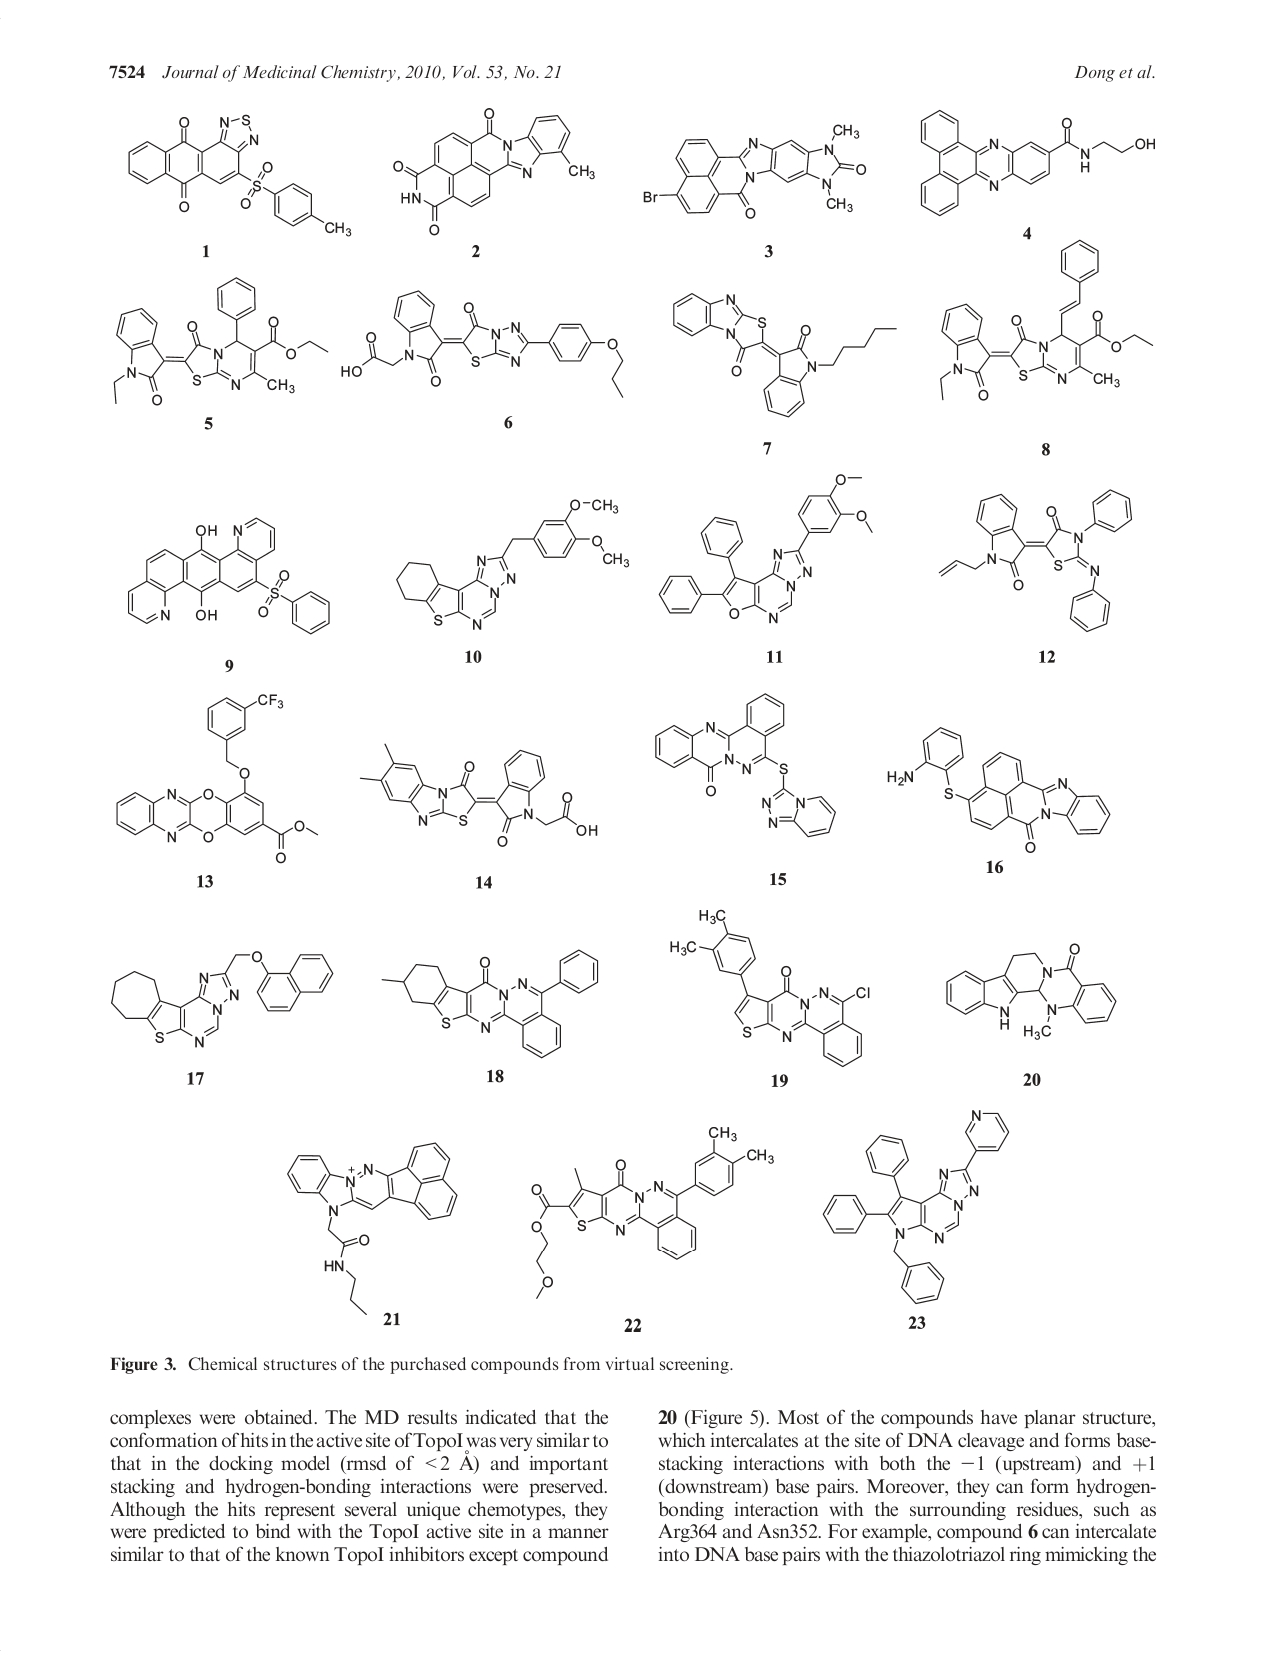exist_molecular: (528, 1122, 777, 1299), (116, 684, 320, 867), (822, 1109, 1012, 1305), (942, 237, 1157, 406), (394, 493, 632, 633), (336, 289, 630, 402), (668, 908, 871, 1069), (660, 473, 872, 625), (669, 286, 904, 418), (287, 1138, 459, 1317), (128, 106, 356, 239), (113, 274, 328, 414), (938, 481, 1136, 633), (884, 725, 1112, 854), (656, 692, 839, 839), (914, 109, 1158, 218), (390, 109, 597, 237), (360, 739, 600, 847), (122, 516, 330, 637), (380, 948, 602, 1059), (640, 118, 867, 226), (110, 950, 332, 1051), (946, 943, 1106, 1043)
